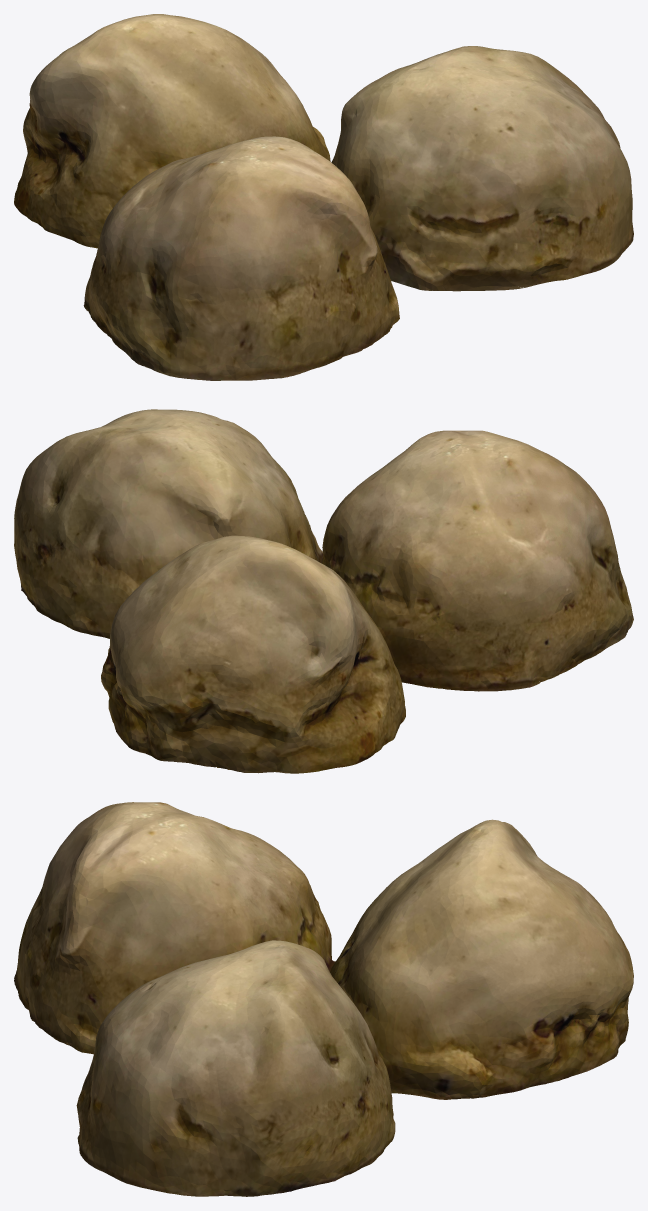
Rendered from pistachio-drop-cookies.gltf.
3 views of the same model, one above another, from view 1: azimuth 30°, elevation 25°; view 2: azimuth 150°, elevation 25°; view 3: azimuth 270°, elevation 25° (orthographic). The views are drawn at different scales.
Bounding box in the file's own units: 0.452 × 0.1413 × 0.4321.
Materials: 1 (1 with a texture image).
